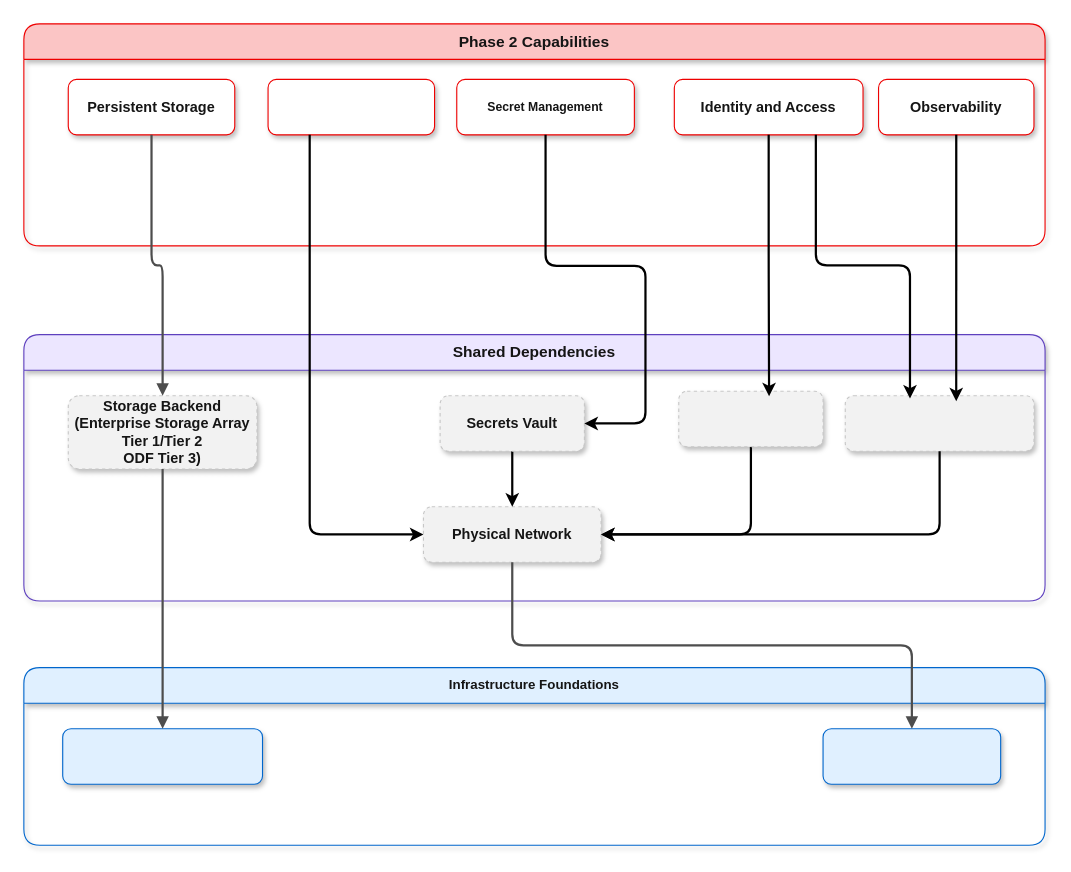
This 1071x872 diagram has some shape labels left out. The shapes that lost their labels are listed below. From the top down, each one's centre as x and y in pixels, then its label:
pixel 352 108: VM Networking
pixel 751 420: LDAP / SSO
pixel 940 424: API Server / etcd
pixel 163 757: FC SAN (Tier 1/Tier 2) NVMe (Tier 3)
pixel 912 757: Physical NICs
